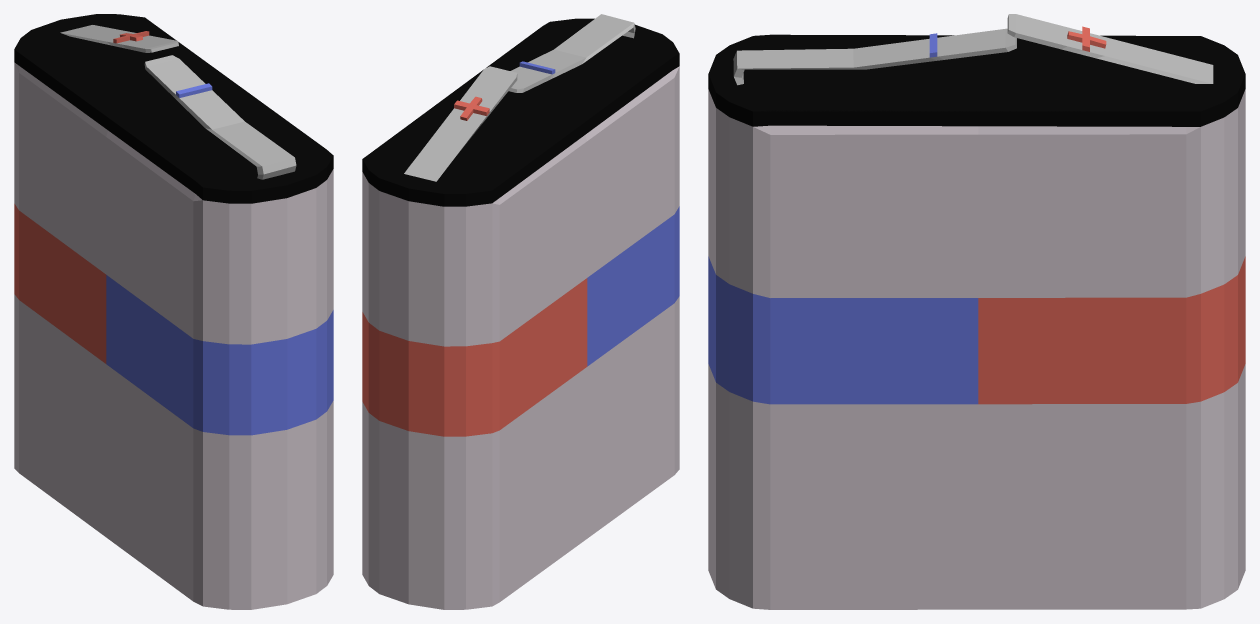
The model's file is wielka_bateria.fbx.
The picture shows the model from 3 angles, left to right: view 1: azimuth 30°, elevation 25°; view 2: azimuth 150°, elevation 25°; view 3: azimuth 270°, elevation 25°; orthographic projection. The views are drawn at different scales.
Visible parts, largest first — view 1: Cube; view 2: Cube; view 3: Cube.
Part boxes in pixels (box(x1,y1,x2,y2)): Cube: box(14, 14, 333, 609); Cube: box(362, 14, 679, 609); Cube: box(708, 14, 1245, 609).
Bounding box in the file's own units: 3.29 × 10.81 × 9.54.
